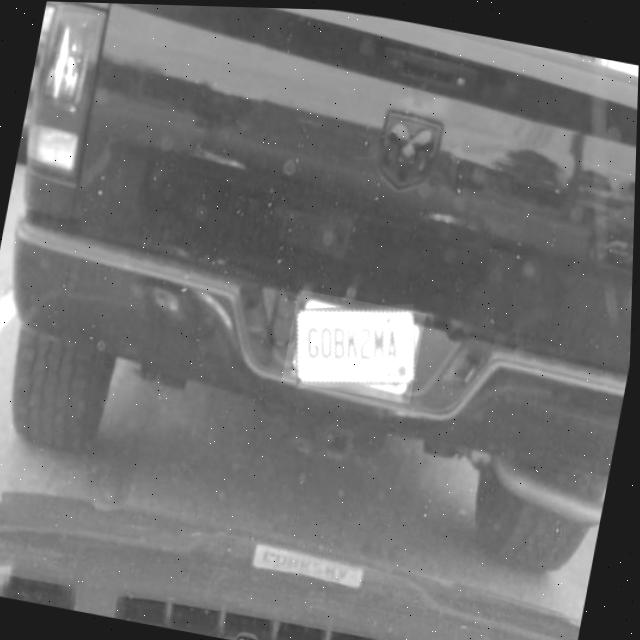LicensePlate: (297, 308, 416, 382)
